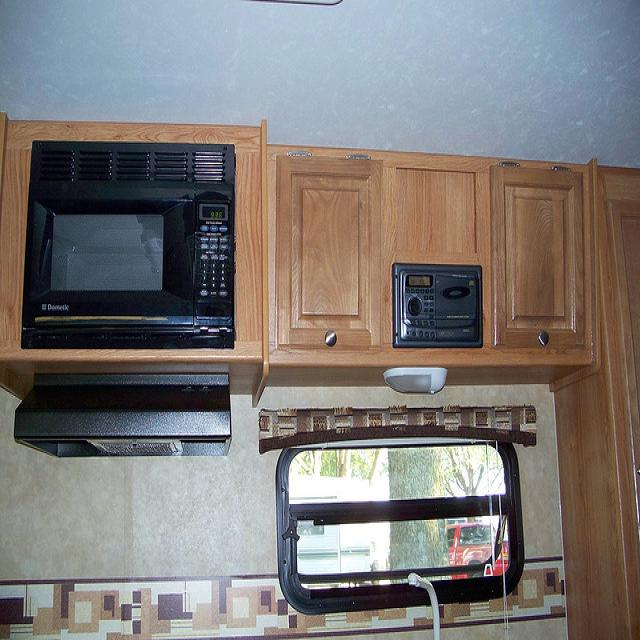Vehicle: (446, 524, 512, 581)
